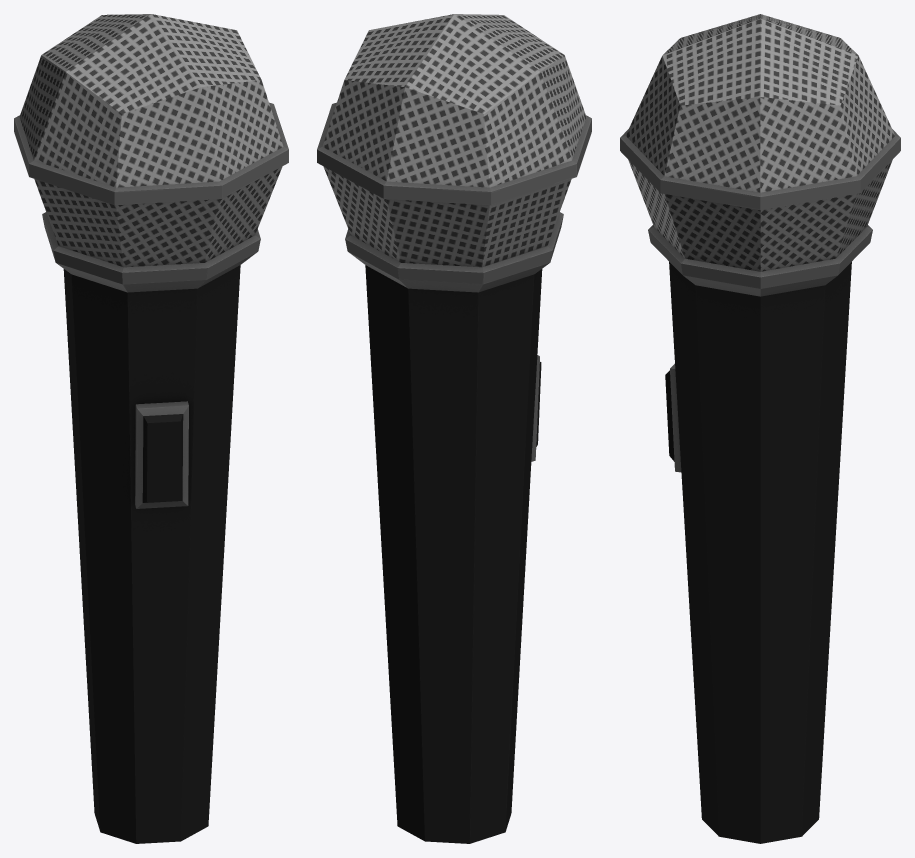
Rendered from Microphone.gltf.
3 views of the same model, side by side, from view 1: azimuth 30°, elevation 25°; view 2: azimuth 150°, elevation 25°; view 3: azimuth 270°, elevation 25° (orthographic).
Visible parts, largest first — view 1: node-0; view 2: node-0; view 3: node-0.
Part boxes in pixels (x1=…): node-0: x1=14, y1=14, x2=288, y2=843; node-0: x1=317, y1=14, x2=591, y2=843; node-0: x1=620, y1=14, x2=900, y2=843.
Size of the model in its own units: 3.54 by 11.14 by 3.54.
Materials: 1 (1 with a texture image).
